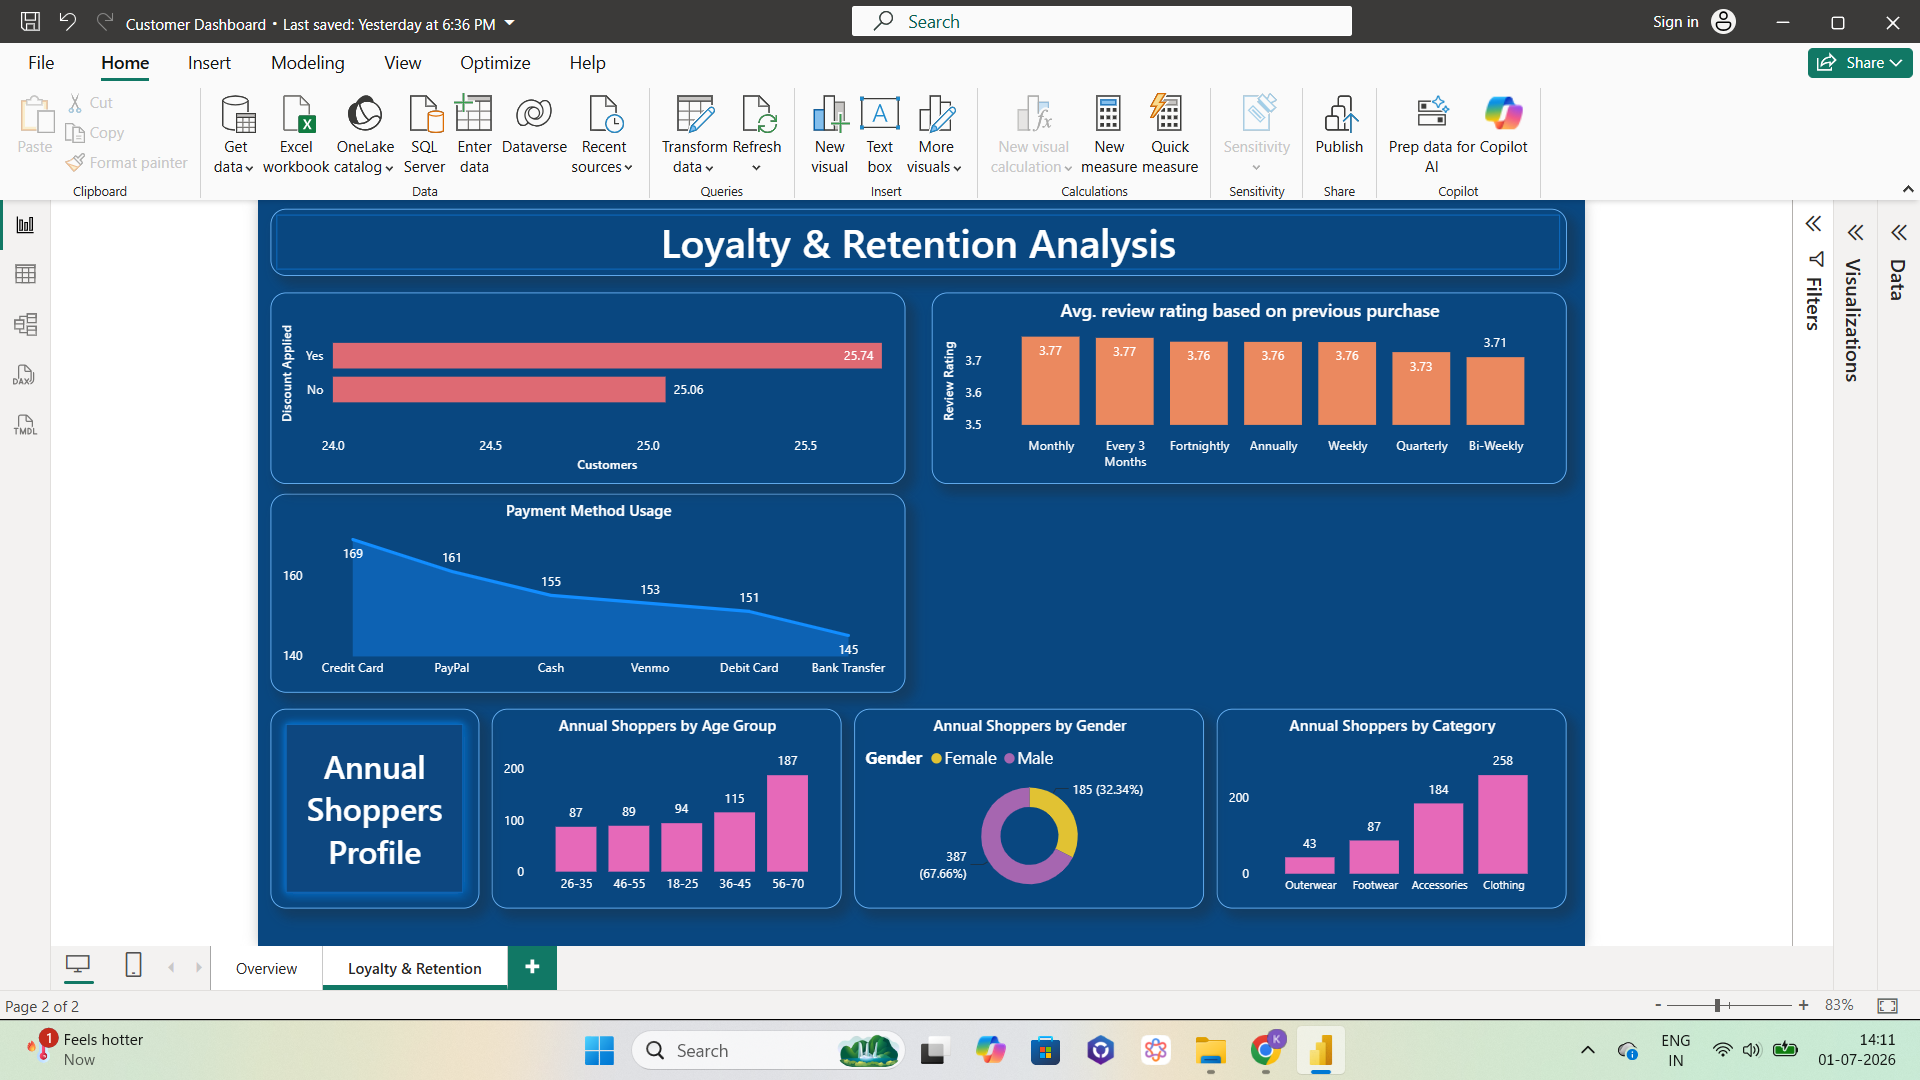

Layout of this report page (visuals, bound fields, positions):
{"tool":"powerbi","page":{"name":"Loyalty & Retention","canvas":[1280,720],"ordinal":1},"visuals":[{"type":"shape","box":[12.1,8.4,1251.1,65.1],"z":0},{"type":"areaChart","title":"Payment Method Usage","fields":{"Category":["cleaned_customer_data.Payment Method"],"Y":["CountNonNull(cleaned_customer_data.Customer ID)"]},"box":[12.1,283.5,612.9,191.8],"z":1000},{"type":"clusteredBarChart","title":" Customers by Age Group","fields":{"Category":["cleaned_customer_data.Discount Applied"],"Y":["Avg(cleaned_customer_data.Previous Purchases)"]},"box":[12.1,89.3,612.9,184.6],"z":2000},{"type":"clusteredColumnChart","title":"Avg. review rating based on previous purchase","fields":{"Category":["cleaned_customer_data.Frequency of Purchases"],"Y":["Avg(cleaned_customer_data.Review Rating)"]},"box":[650.3,89.3,612.9,184.6],"z":3000},{"type":"clusteredColumnChart","title":"Annual Shoppers by Age Group","fields":{"Category":["cleaned_customer_data.Age Group"],"Y":["CountNonNull(cleaned_customer_data.Customer ID)"]},"box":[225.6,491,337.8,193],"z":4000},{"type":"clusteredColumnChart","title":"Annual Shoppers by Category","fields":{"Y":["CountNonNull(cleaned_customer_data.Customer ID)"],"Category":["cleaned_customer_data.Category"]},"box":[925.3,491,337.8,193],"z":5000},{"type":"donutChart","title":"Annual Shoppers by Gender","fields":{"Y":["CountNonNull(cleaned_customer_data.Customer ID)"],"Category":["cleaned_customer_data.Gender"]},"box":[575.5,491,337.8,193],"z":6000},{"type":"shape","box":[12.1,491,201.5,193],"z":6001}]}

Visuals, with their boxes on the page's 1280x720 design canvas (x1, y1, x2, y2). These are canvas units, not pixel positions in the 1920x1080 screenshot, which may show the page scaled, cropped or inside an application window:
shape: <region>12, 8, 1263, 74</region>
"Payment Method Usage" areaChart: <region>12, 284, 625, 475</region>
" Customers by Age Group" clusteredBarChart: <region>12, 89, 625, 274</region>
"Avg. review rating based on previous purchase" clusteredColumnChart: <region>650, 89, 1263, 274</region>
"Annual Shoppers by Age Group" clusteredColumnChart: <region>226, 491, 563, 684</region>
"Annual Shoppers by Category" clusteredColumnChart: <region>925, 491, 1263, 684</region>
"Annual Shoppers by Gender" donutChart: <region>576, 491, 913, 684</region>
shape: <region>12, 491, 214, 684</region>
